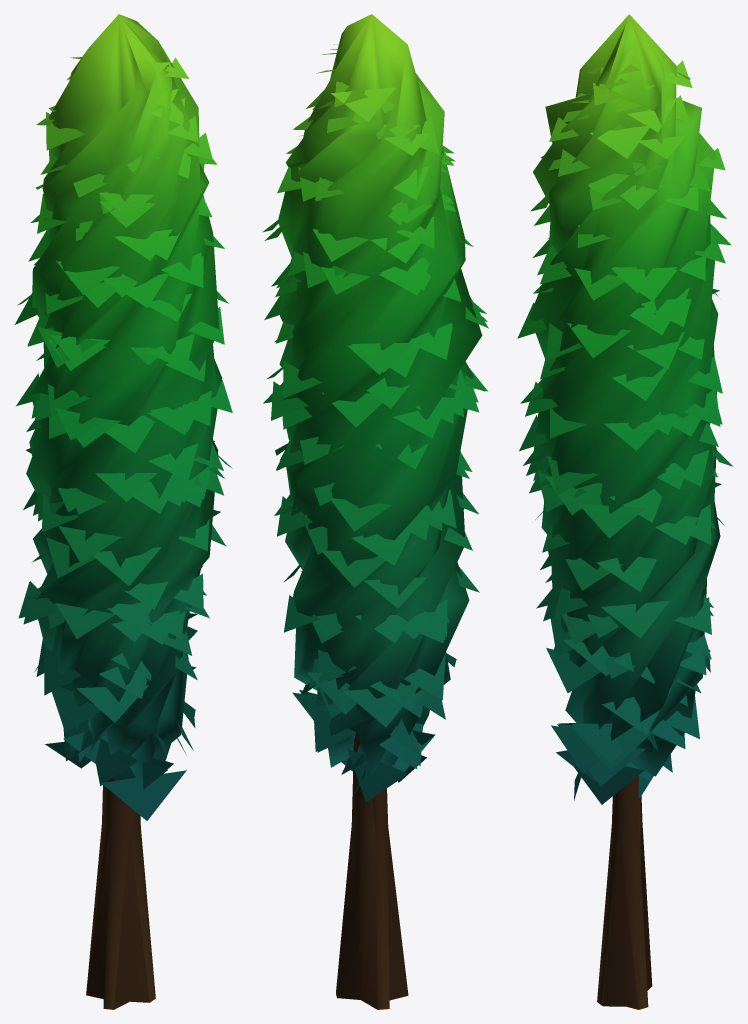
File: Tree_5D.fbx
3 views of the same model, side by side, from view 1: azimuth 30°, elevation 25°; view 2: azimuth 150°, elevation 25°; view 3: azimuth 270°, elevation 25° (orthographic).
Parts seen in each view (by area): view 1: Tree_5D; view 2: Tree_5D; view 3: Tree_5D.
Boxes of the visible parts, x1,y1,x2,y2 form: Tree_5D: (14,14,232,1009); Tree_5D: (262,14,488,1009); Tree_5D: (517,14,733,1009).
Size of the model in its own units: 4.34 by 20.8 by 4.16.
1 material, 1 textured.
